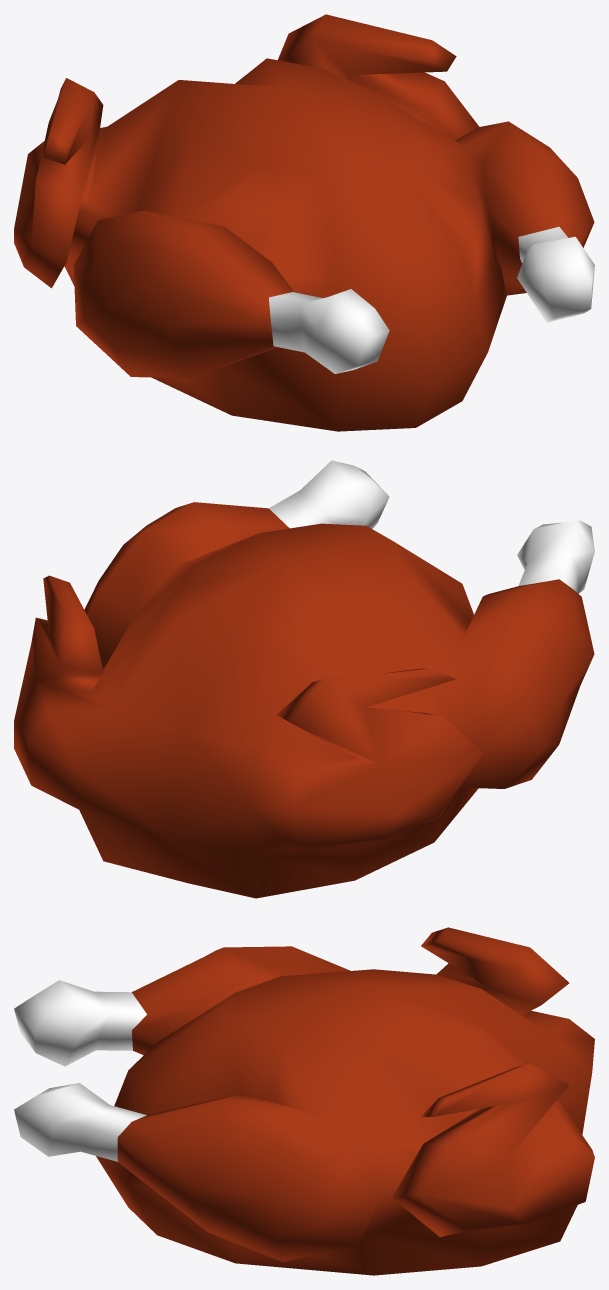
Rendered from Ga tay.FBX.
The picture shows the model from 3 angles, top to bottom: view 1: azimuth 30°, elevation 25°; view 2: azimuth 150°, elevation 25°; view 3: azimuth 270°, elevation 25°; orthographic projection. The views are drawn at different scales.
Parts seen in each view (by area): view 1: Ga tay song; view 2: Ga tay song; view 3: Ga tay song.
Boxes of the visible parts, x1,y1,x2,y2 form: Ga tay song: [14, 14, 594, 431]; Ga tay song: [14, 460, 594, 898]; Ga tay song: [14, 927, 594, 1275].
Bounding box in the file's own units: 1.95 × 1.02 × 2.32.
